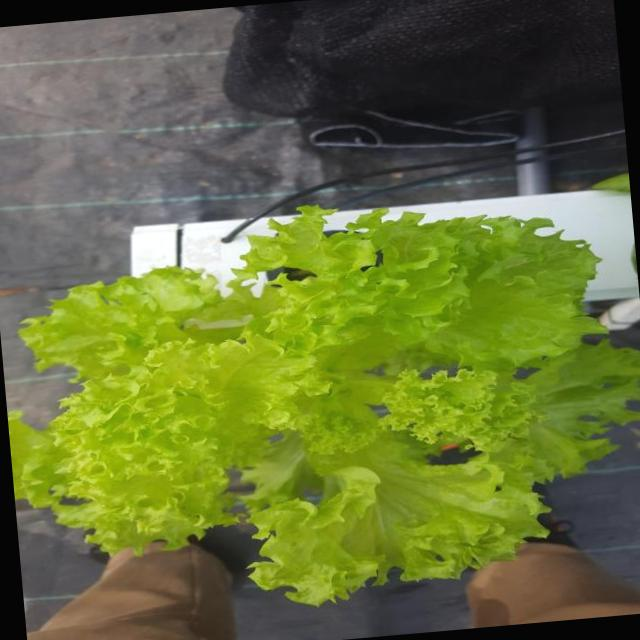Lettuce-Ready-to-Harvest: (7, 207, 640, 604)
